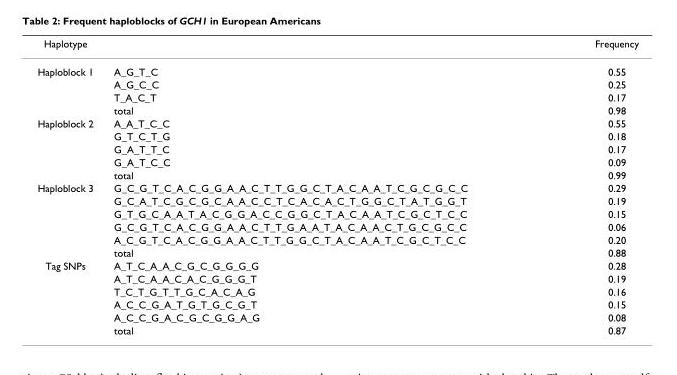table: (36, 37, 637, 335)
table column: (102, 37, 530, 335), (530, 37, 637, 335), (36, 37, 102, 335)
table column header: (36, 37, 637, 57)
table row: (36, 37, 637, 57), (36, 57, 637, 77), (36, 77, 637, 90), (36, 90, 637, 103), (36, 103, 637, 116), (36, 116, 637, 129), (36, 129, 637, 142), (36, 142, 637, 155), (36, 155, 637, 168), (36, 168, 637, 181), (36, 181, 637, 194), (36, 206, 637, 219), (36, 219, 637, 232), (36, 232, 637, 245), (36, 245, 637, 258), (36, 258, 637, 271), (36, 271, 637, 284), (36, 284, 637, 297), (36, 297, 637, 310), (36, 310, 637, 323), (36, 194, 637, 206), (36, 323, 637, 335)
table spanning cell: (36, 181, 102, 258), (36, 258, 102, 335), (36, 116, 102, 181), (36, 57, 102, 116)
